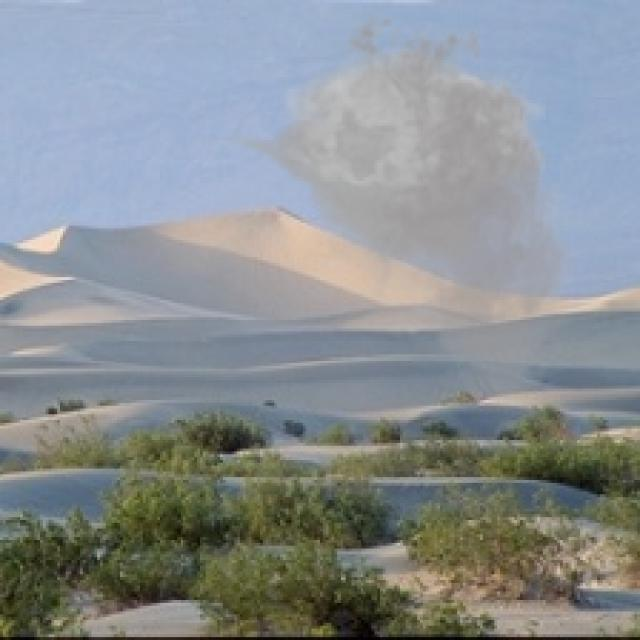smoke: (223, 0, 587, 412)
